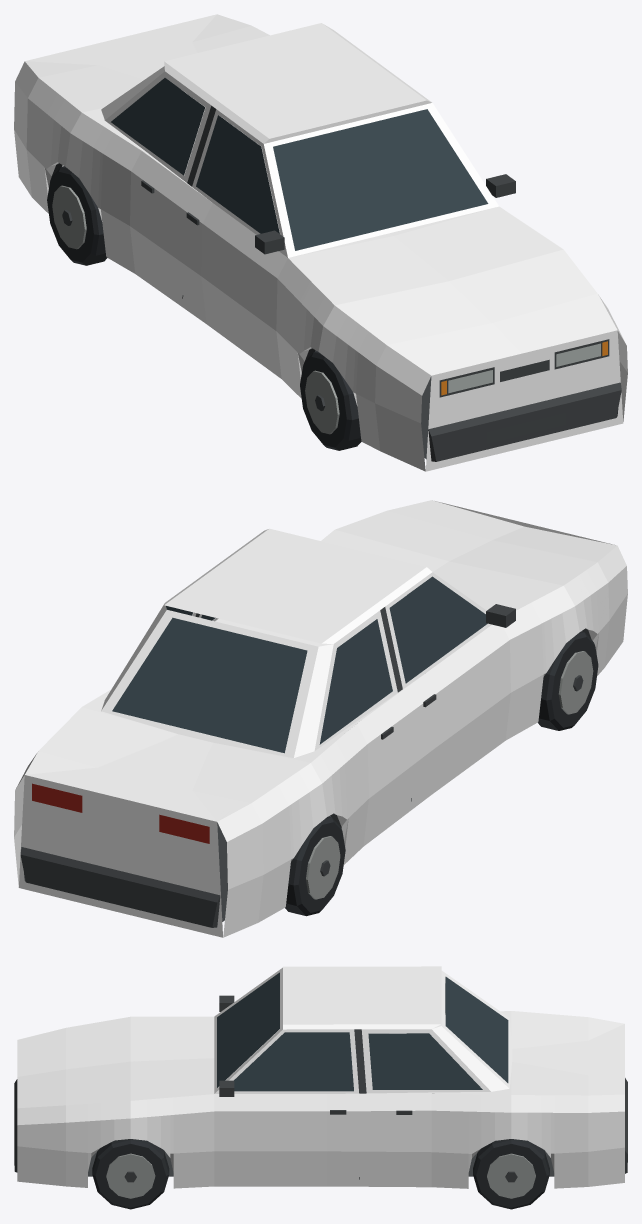
File: vallon_galet.glb
3 views of the same model, one above another, from view 1: azimuth 30°, elevation 25°; view 2: azimuth 150°, elevation 25°; view 3: azimuth 270°, elevation 25° (orthographic). The views are drawn at different scales.
Visible parts, largest first — view 1: vallon_galet; view 2: vallon_galet; view 3: vallon_galet.
Part boxes in pixels (x1,y1,x2,y2): vallon_galet: (14, 14, 627, 471); vallon_galet: (14, 500, 627, 937); vallon_galet: (14, 966, 627, 1209).
Size of the model in its own units: 1.83 by 1.5 by 4.95.
Materials: 8 (1 with a texture image).
